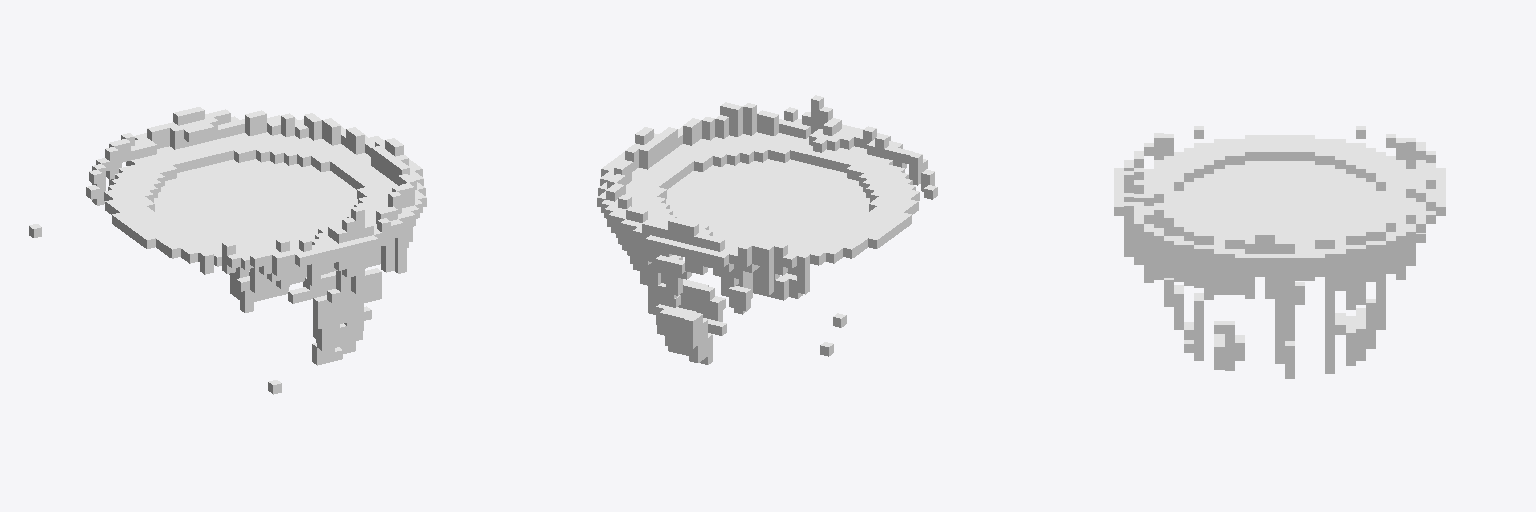
File: BeerHeadFilled.obj
3 views of the same model, side by side, from view 1: azimuth 30°, elevation 25°; view 2: azimuth 150°, elevation 25°; view 3: azimuth 270°, elevation 25° (orthographic).
Size of the model in its own units: 33 by 21 by 33.